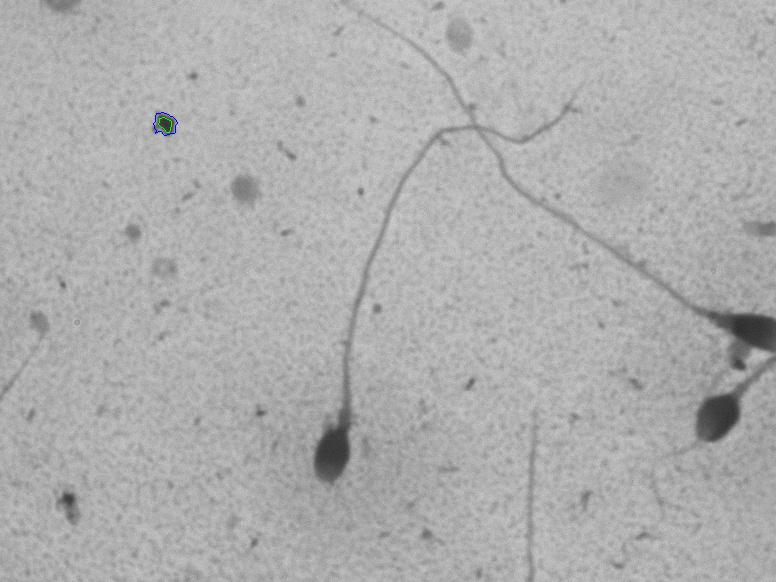Normal: (283, 140, 465, 498)
